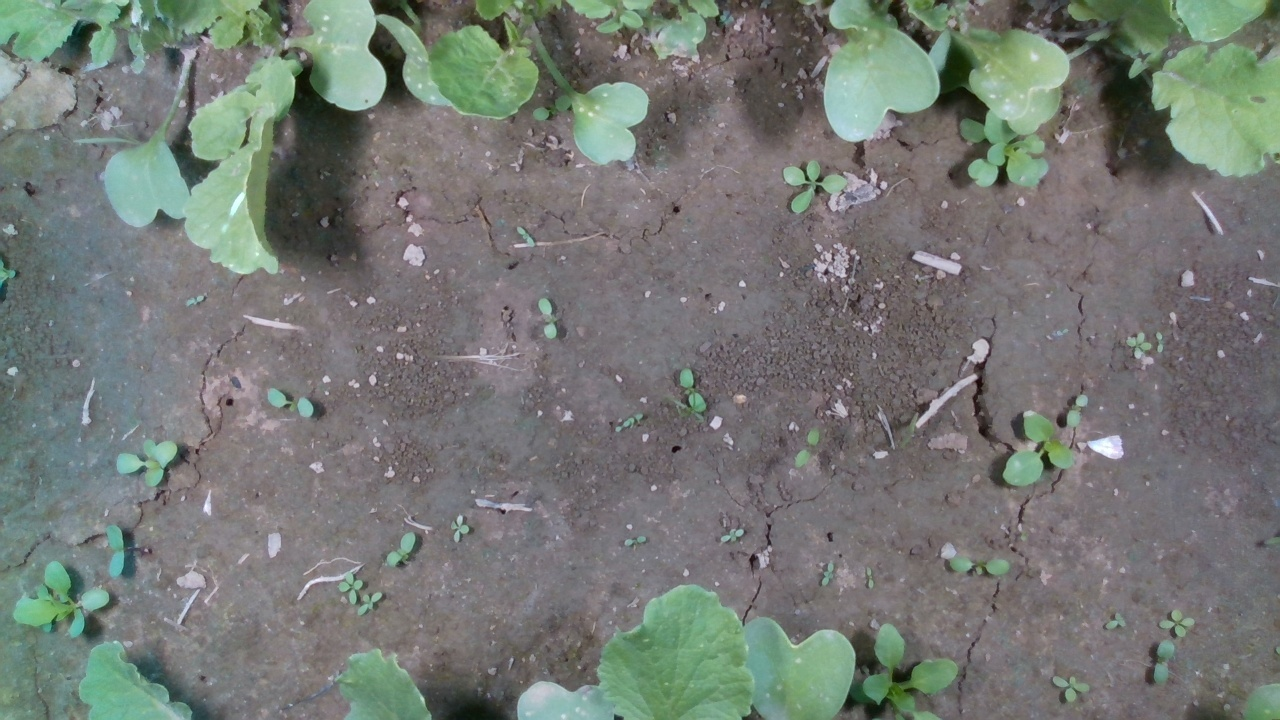weed: (779, 157, 851, 213), (112, 437, 180, 489), (264, 386, 316, 418), (678, 366, 707, 416), (947, 554, 1012, 575), (384, 529, 417, 569), (1155, 606, 1196, 638), (103, 525, 126, 581), (1049, 673, 1093, 702), (1152, 640, 1175, 688), (536, 296, 560, 341), (793, 429, 820, 468), (1064, 392, 1089, 430), (1122, 330, 1152, 359), (449, 513, 471, 544), (1102, 610, 1127, 632), (716, 527, 746, 544), (819, 561, 835, 585), (862, 564, 876, 589), (622, 535, 646, 548), (1155, 330, 1165, 354)
